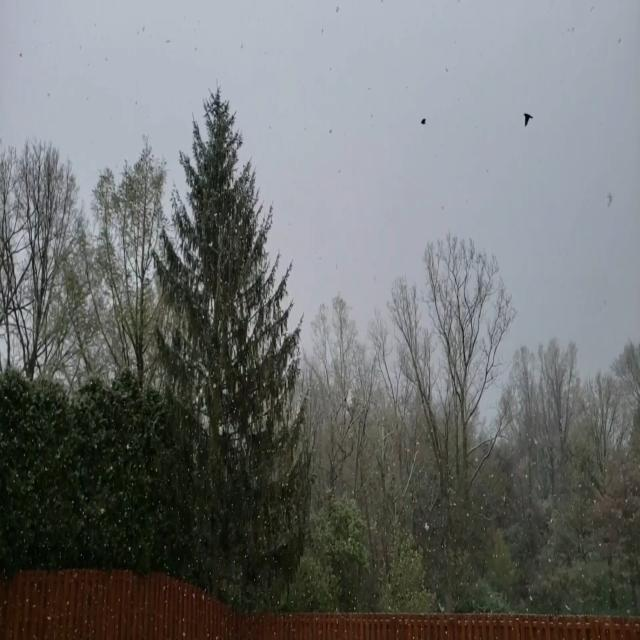bird: (523, 111, 533, 130), (419, 116, 426, 128)
